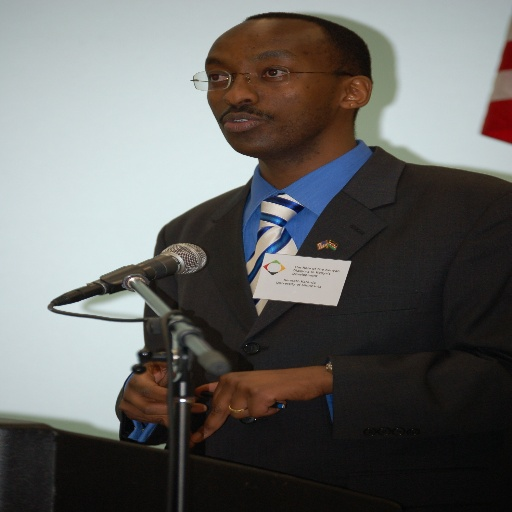hand: (191, 366, 335, 446), (117, 359, 209, 424)
